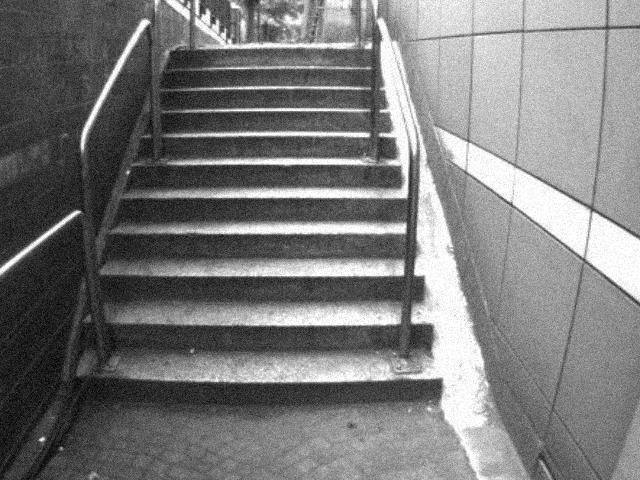Escaleras: (94, 41, 433, 396)
